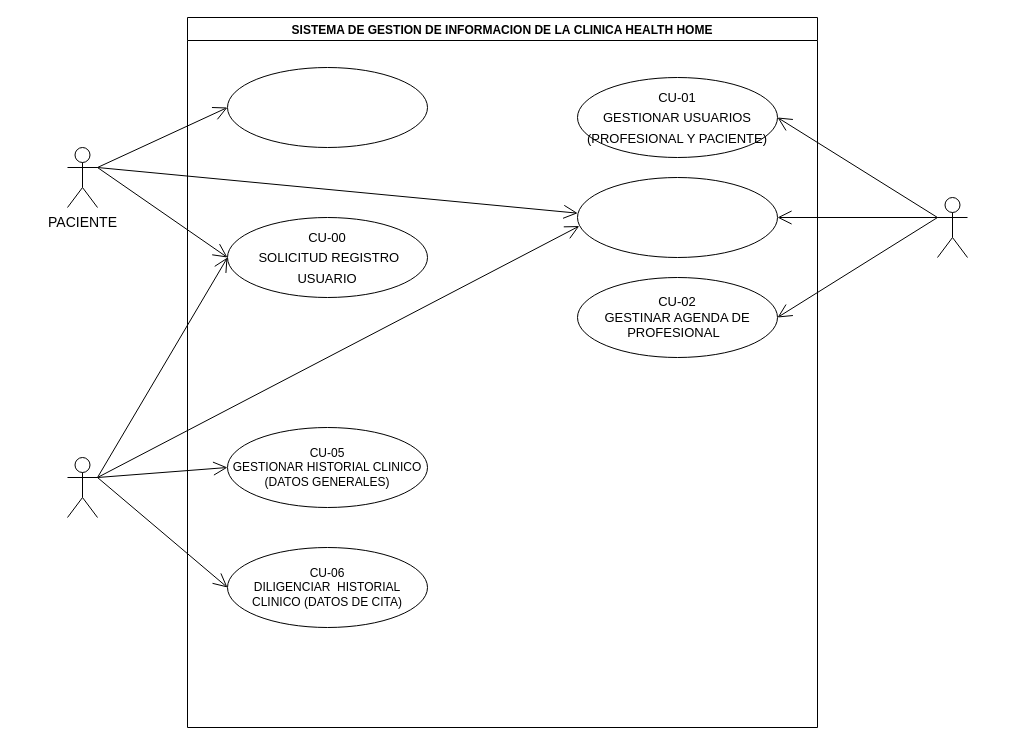
Image size: 1028x745. Some labels were removed from this diagram. Each missing label, with the centre of its shape:
ADMINISTRADOR SISTEMA: [952,227]
CU-03 INGRESAR A SISTEMA: [677,217]
CU-04 AGENDAR CITA: [327,107]
PROFESIONAL DE LA SALUD: [82,487]
